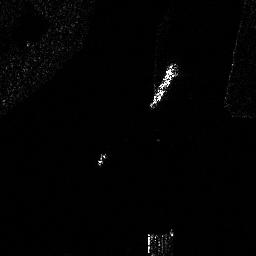ship: (150, 62, 178, 109)
